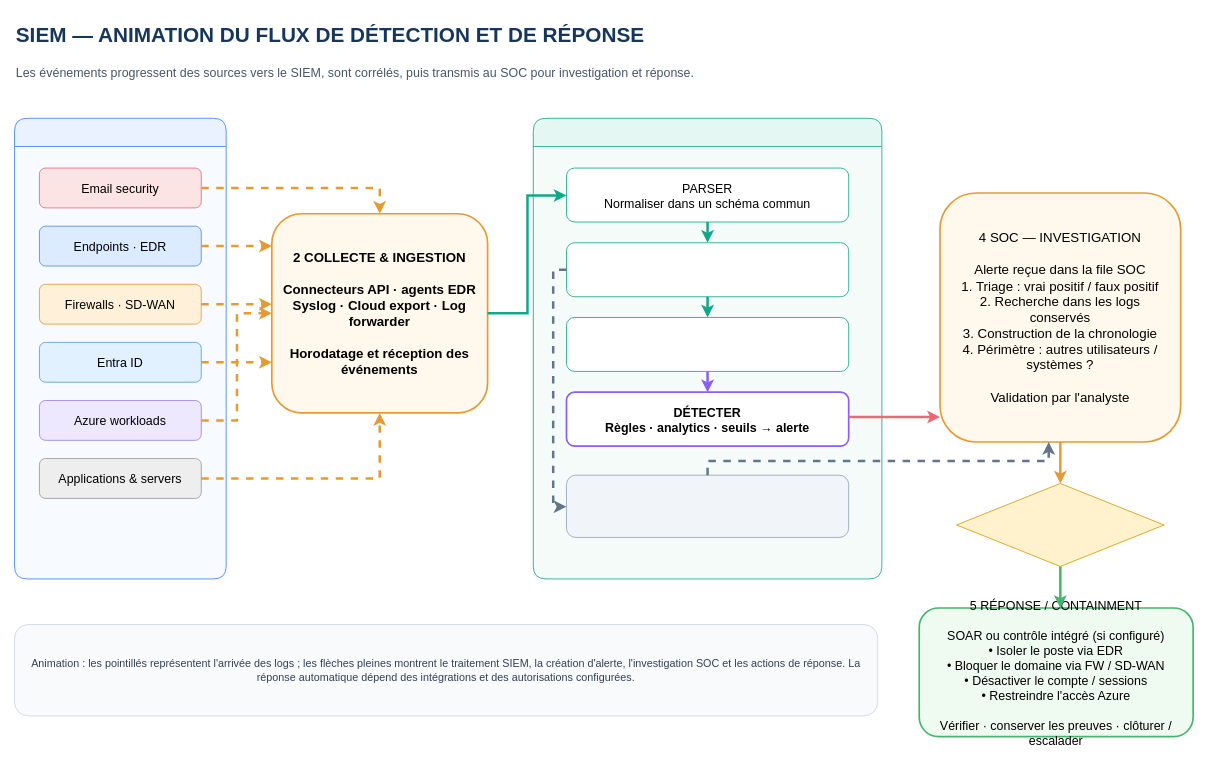
The diagram is 1208 pixels wide and 761 high, and some of its shapes have lost their labels. Here are the shapes that lost their labels. From the top down, the box of each, then its label:
(566, 242, 849, 297): ENRICHIR Contexte actif · utilisateur · asset · Threat Intel
(14, 117, 226, 579): 1 SOURCES DE JOURNAUX
(532, 117, 882, 579): 3 PLATEFORME SIEM
(566, 317, 849, 371): CORRÉLER Relier les événements multi-sources / multi-utilisateurs
(566, 474, 849, 537): LOG STORE Recherche · threat hunting · rétention · reporting
(956, 483, 1164, 566): Incident confirmé ? Playbook pré-approuvé ?
